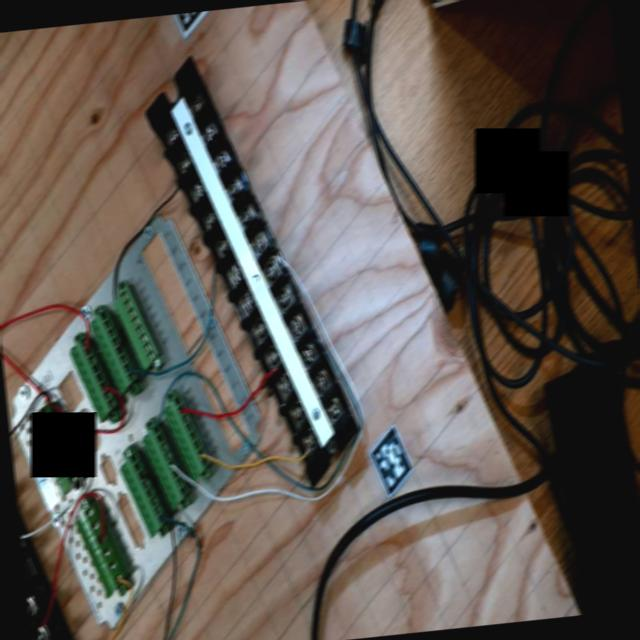Phillips_Block: (130, 54, 373, 487)
Terminal_1: (71, 504, 130, 597), (28, 403, 82, 495)
Terminal_2: (114, 449, 174, 539), (158, 392, 216, 481), (65, 334, 123, 422), (137, 421, 194, 510), (85, 308, 142, 395)
